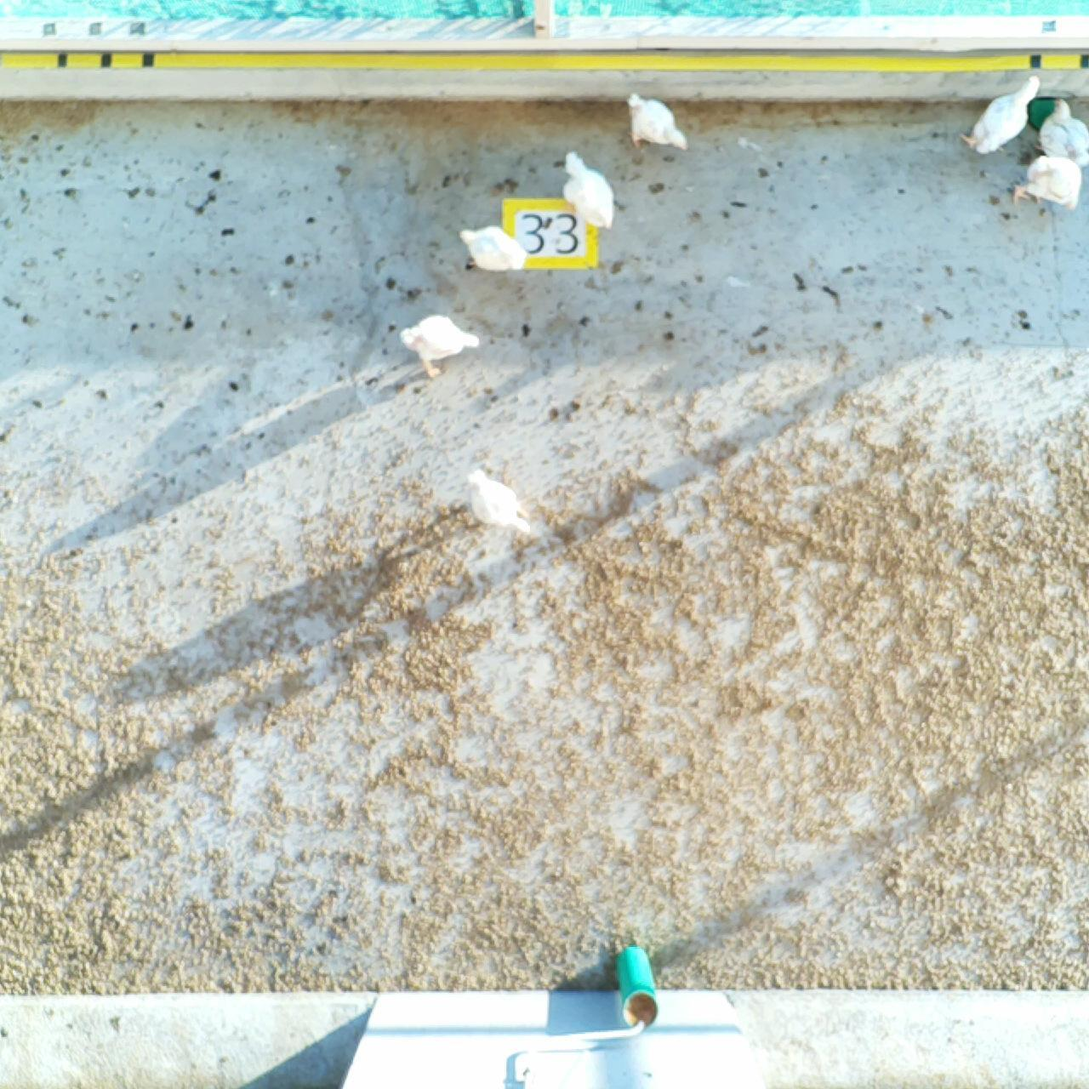chicken: (960, 74, 1041, 154), (459, 467, 539, 539), (405, 315, 483, 379), (561, 152, 619, 229), (456, 221, 532, 276), (623, 92, 687, 155), (1012, 151, 1080, 205), (1037, 98, 1088, 167)
